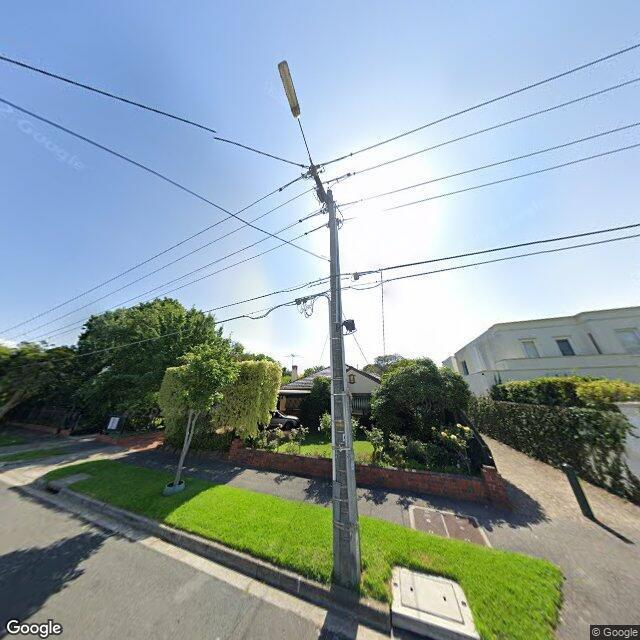crossarm: (310, 165, 329, 206)
streetlight: (278, 61, 313, 166)
timber-pole: (329, 201, 361, 585)
